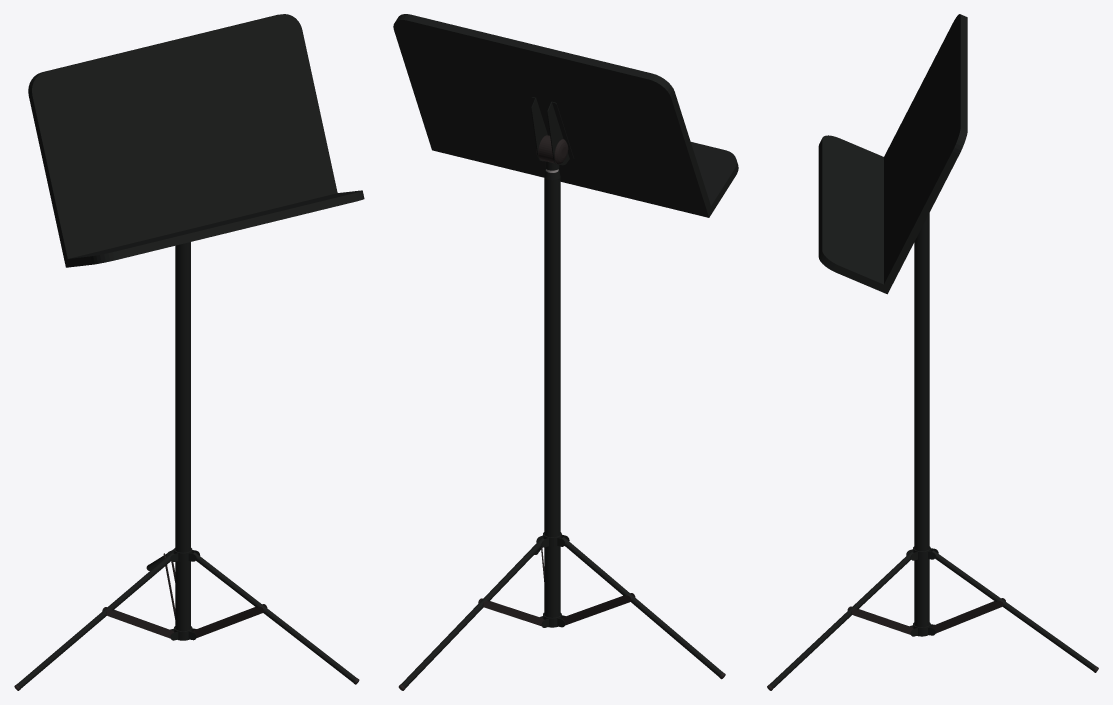
Rendered from Notenstander.fbx.
3 views of the same model, side by side, from view 1: azimuth 30°, elevation 25°; view 2: azimuth 150°, elevation 25°; view 3: azimuth 270°, elevation 25° (orthographic). The views are drawn at different scales.
Visible parts, largest first — view 1: Notenstander; view 2: Notenstander; view 3: Notenstander.
Part boxes in pixels (x1=…): Notenstander: x1=14, y1=14, x2=364, y2=690; Notenstander: x1=393, y1=14, x2=738, y2=690; Notenstander: x1=767, y1=14, x2=1098, y2=690.
Bounding box in the file's own units: 70.21 × 131 × 68.72.
